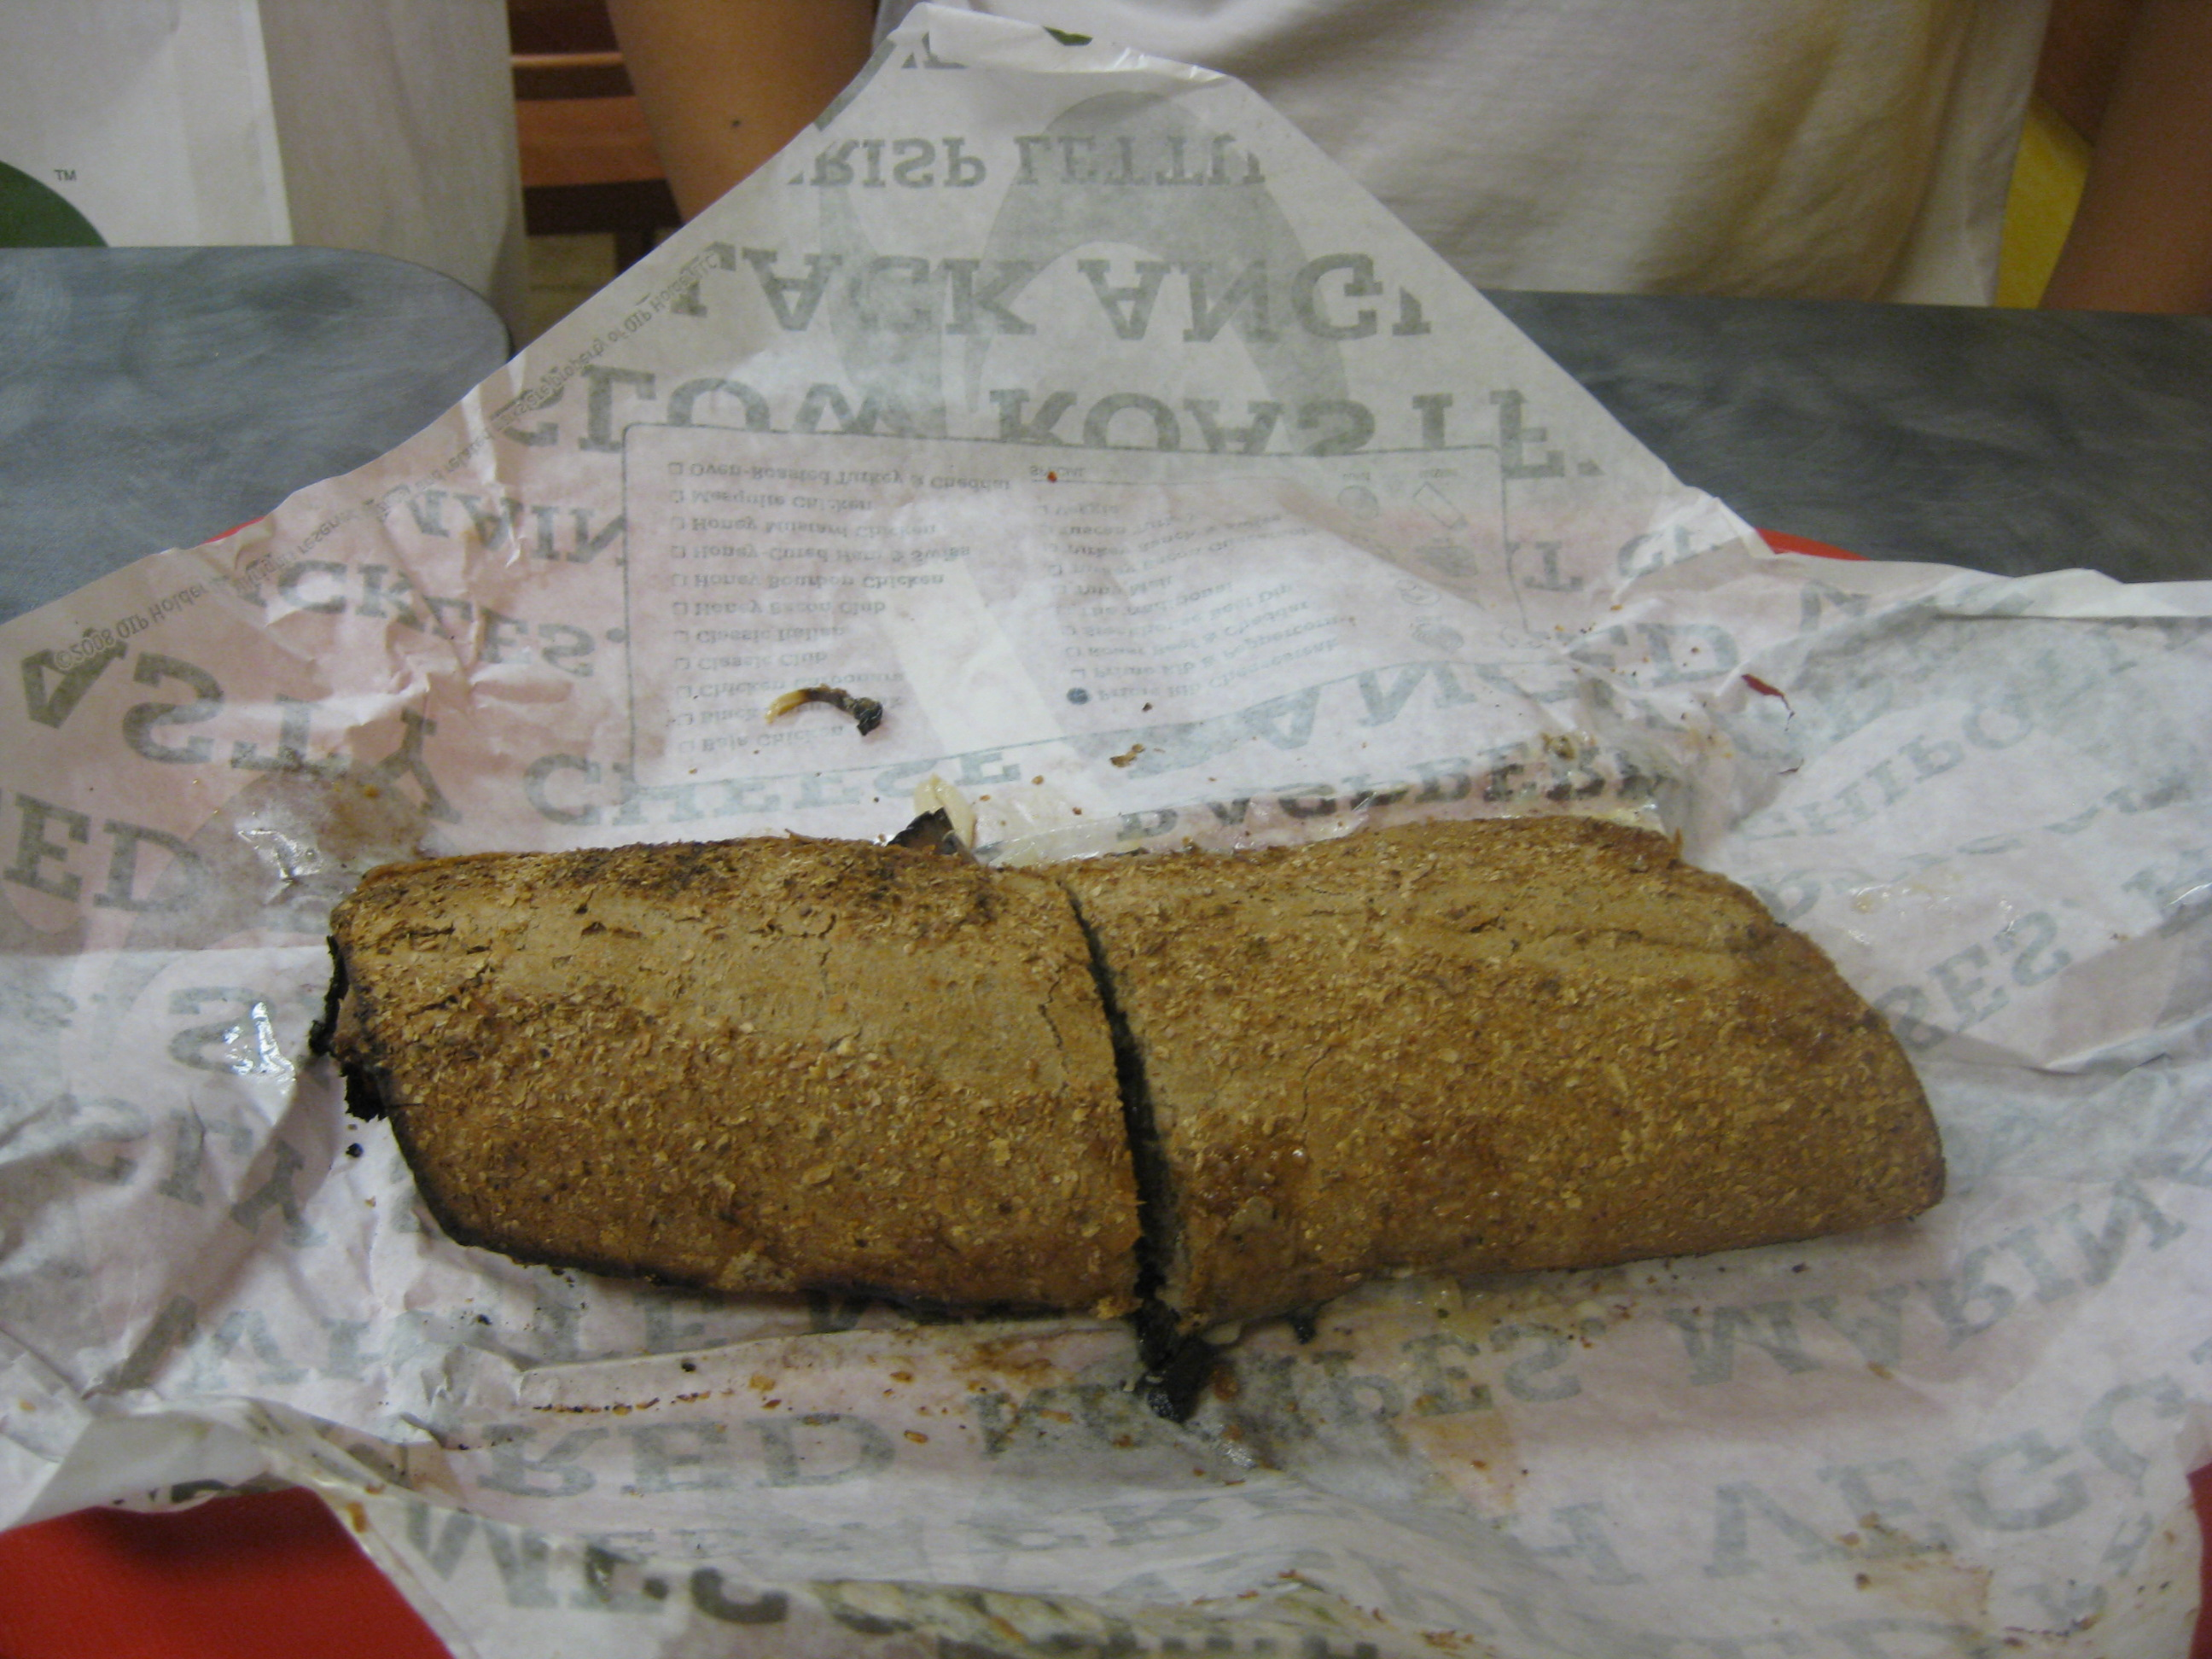sub: (262, 774, 2024, 1342)
